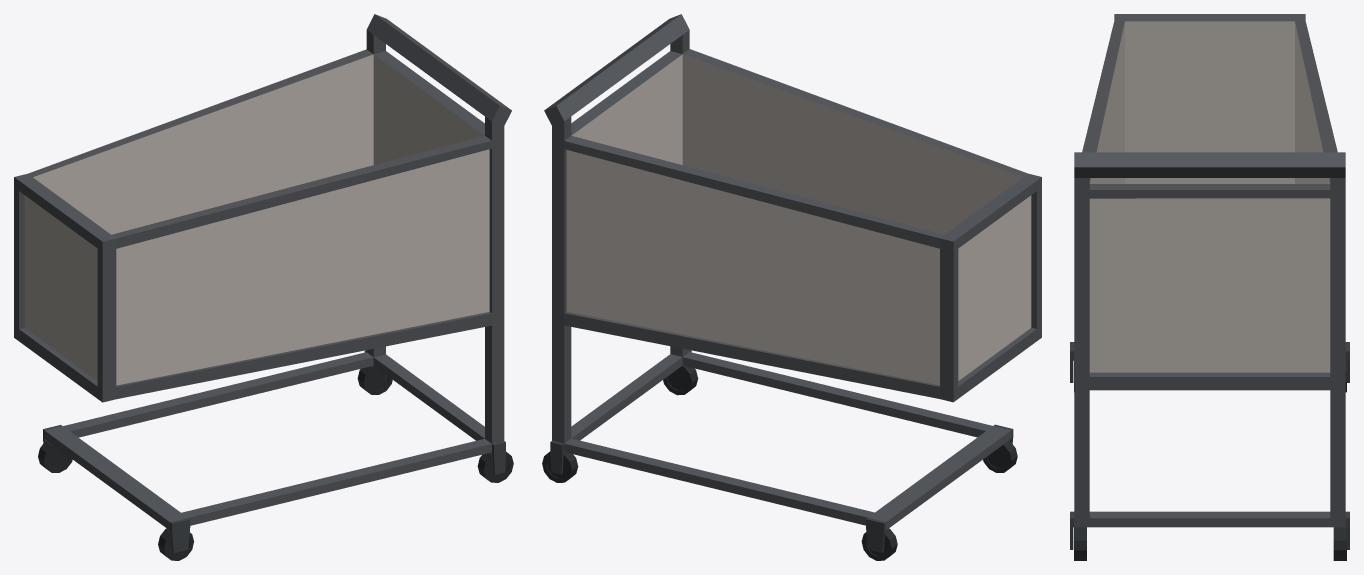
Rendered from ShoppingCart.fbx.
The picture shows the model from 3 angles, left to right: view 1: azimuth 30°, elevation 25°; view 2: azimuth 150°, elevation 25°; view 3: azimuth 270°, elevation 25°; orthographic projection. The views are drawn at different scales.
Visible parts, largest first — view 1: ShopTruck_01_A; view 2: ShopTruck_01_A; view 3: ShopTruck_01_A.
Boxes of the visible parts, x1,y1,x2,y2 form: ShopTruck_01_A: (14, 14, 513, 560); ShopTruck_01_A: (542, 14, 1041, 560); ShopTruck_01_A: (1070, 14, 1349, 560).
Size of the model in its own units: 102 by 93.97 by 58.43.
